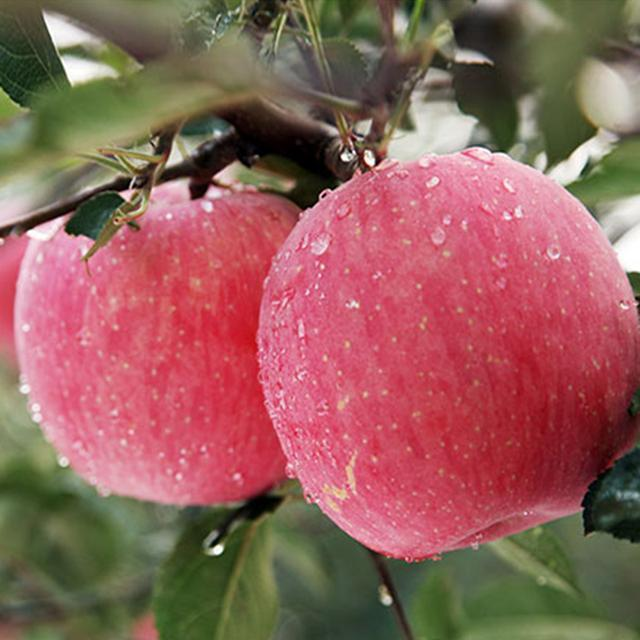apple: (263, 146, 640, 562), (17, 183, 307, 505)
